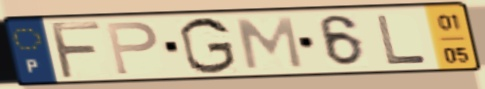6: (317, 13, 368, 69)
F: (46, 20, 104, 82)
G: (176, 15, 239, 76)
L: (372, 13, 430, 66)
M: (234, 15, 307, 71)
P: (103, 20, 161, 77)
